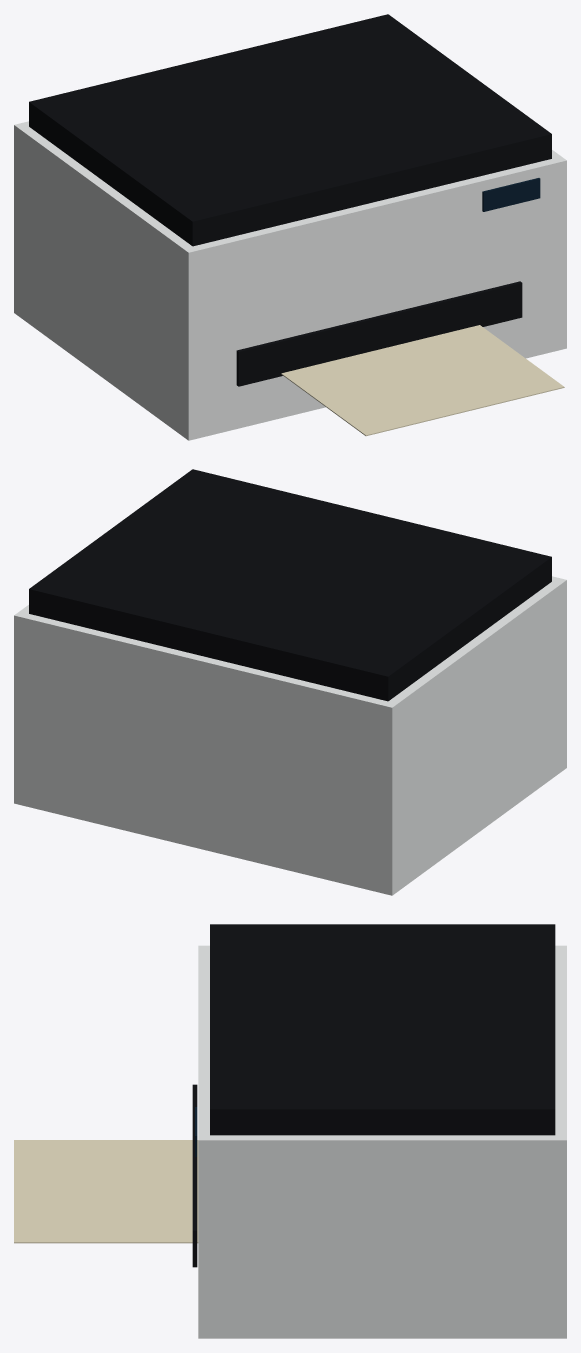
The model's file is Nyomtato.obj.
The picture shows the model from 3 angles, top to bottom: view 1: azimuth 30°, elevation 25°; view 2: azimuth 150°, elevation 25°; view 3: azimuth 270°, elevation 25°; orthographic projection. The views are drawn at different scales.
Size of the model in its own units: 0.4 by 0.215 by 0.48.
